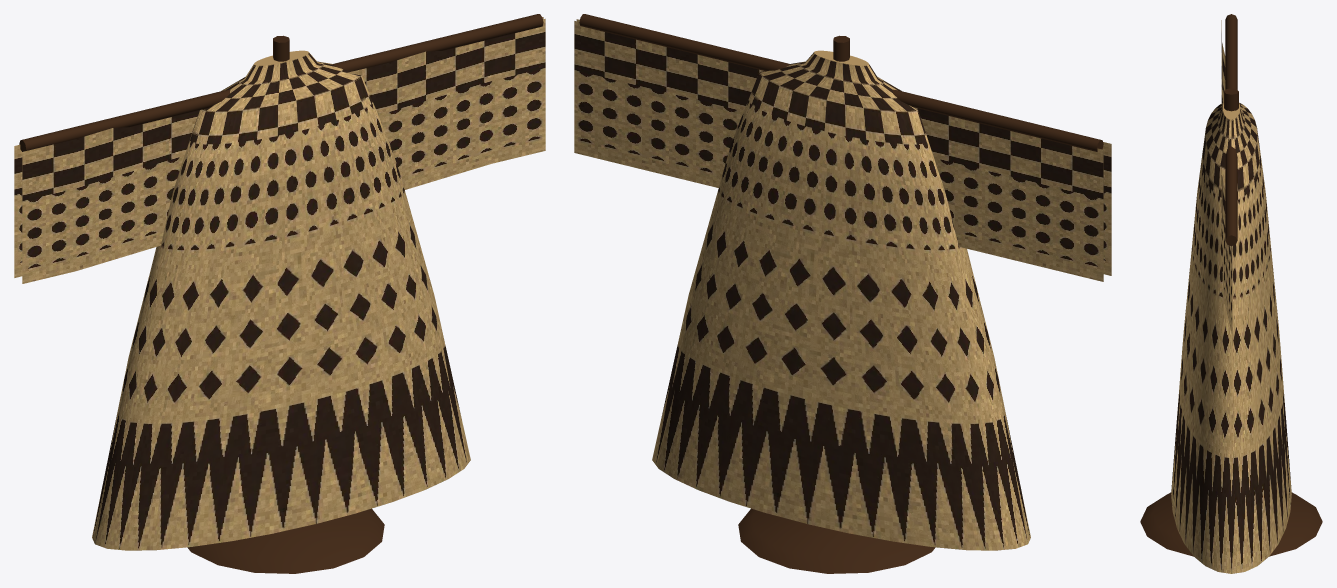
File: bogolan.glb
3 views of the same model, side by side, from view 1: azimuth 30°, elevation 25°; view 2: azimuth 150°, elevation 25°; view 3: azimuth 270°, elevation 25° (orthographic). The views are drawn at different scales.
Parts seen in each view (by area): view 1: bogolan; view 2: bogolan; view 3: bogolan.
Boxes of the visible parts, box(x1,y1,x2,y2) form: bogolan: box(14, 14, 545, 573); bogolan: box(574, 14, 1111, 573); bogolan: box(1140, 14, 1322, 573).
Size of the model in its own units: 1.76 by 1.56 by 0.6.
2 materials, 1 textured.
